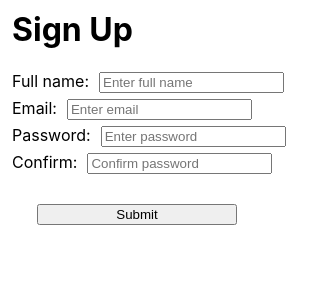
Send form › should send form and display success message
Type "John Doe" into the field with placeholder "Enter full name" at coordinates (192, 82), box [99, 72, 284, 93]
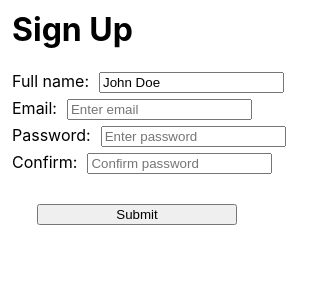
Type "email@gmail.com" into the field with placeholder "Enter email" at coordinates (160, 109), box [67, 99, 252, 120]
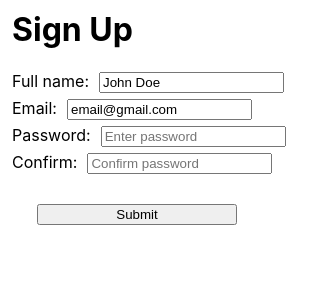
Type "qwerty123" into the password field with placeholder "Enter password" at coordinates (193, 136), box [101, 126, 286, 147]
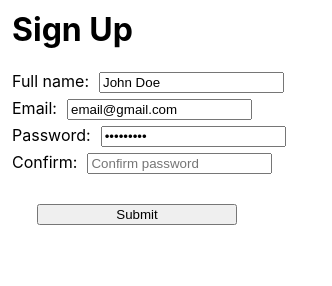
Type "qwerty123" into the password field with placeholder "Confirm password" at coordinates (180, 163), box [87, 153, 272, 174]
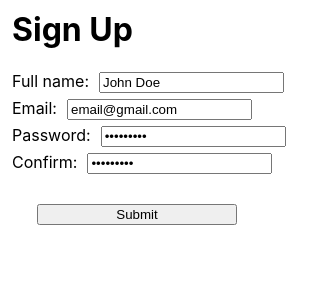
Submit the form from the button with test id "submit-button", box [37, 204, 237, 225]
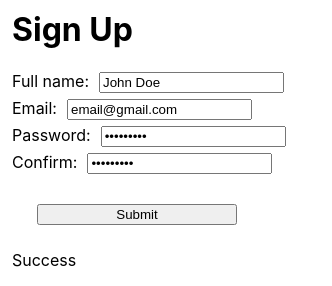
Now the text with test id "successMsg" reads "Success", box [12, 250, 76, 270]
